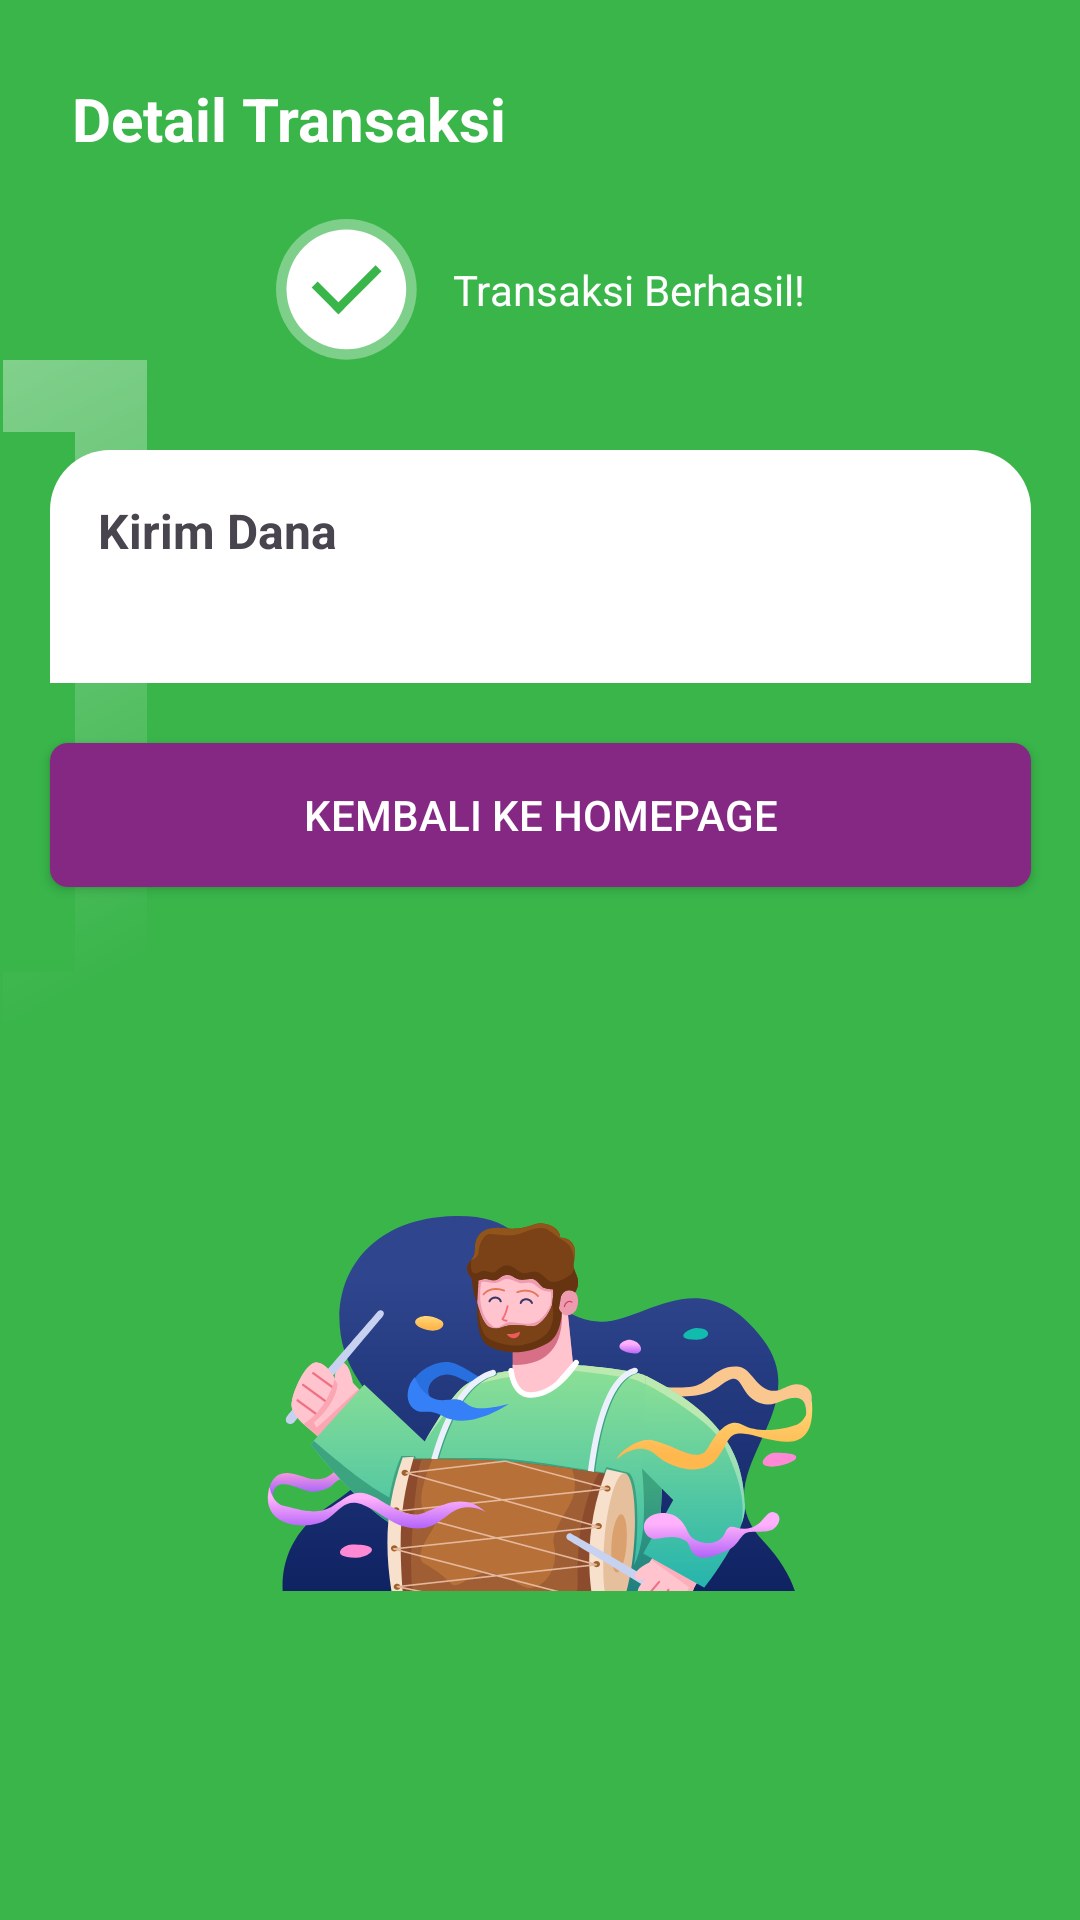

Named icons in this screenshot (1080w x 1920h) and their bounding boxes, (x1, y1, x2, y2):
centang: (276, 219, 417, 360)
